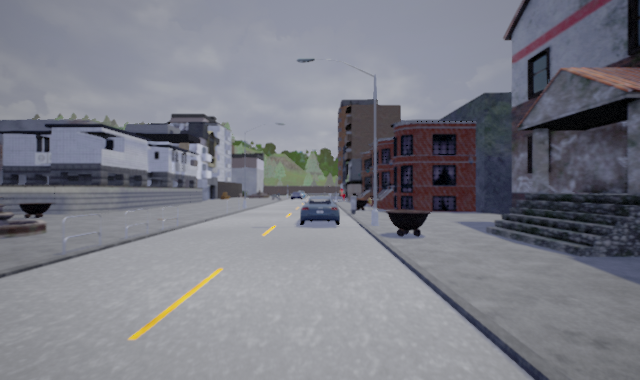vehicle: (299, 195, 341, 225)
